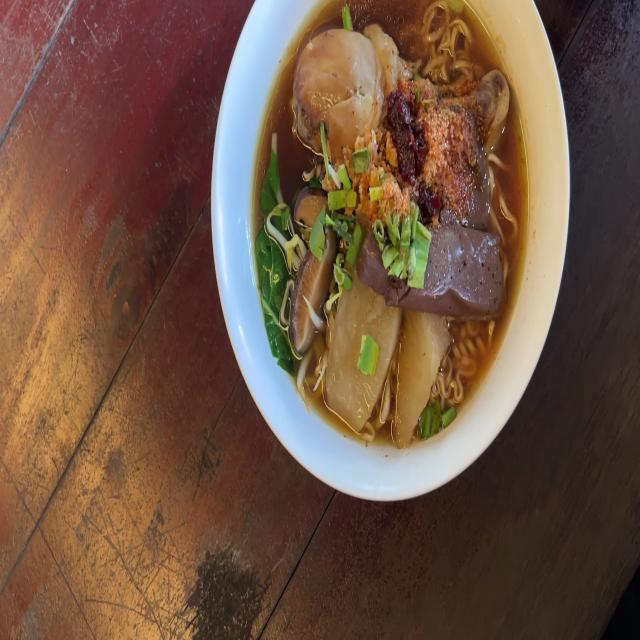noodle: (425, 216, 506, 313), (466, 152, 490, 230)
